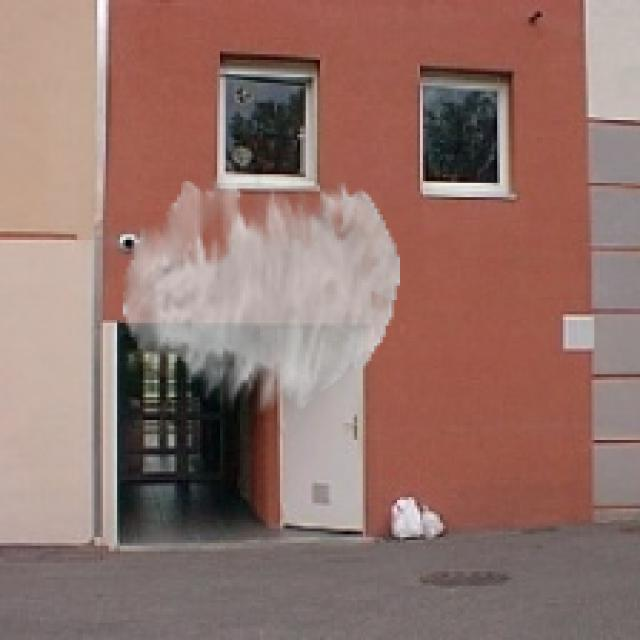smoke: (123, 172, 400, 414)
